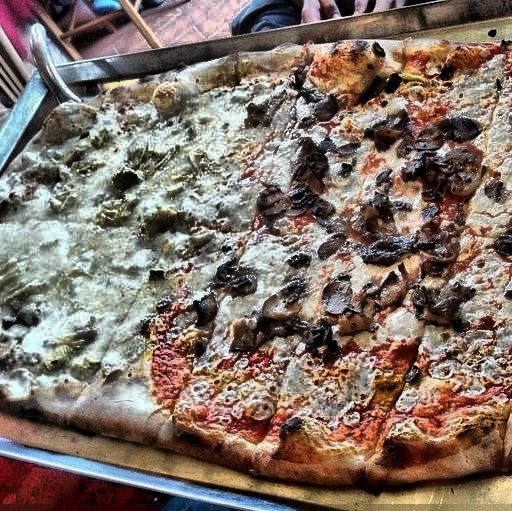pizza: (21, 68, 512, 458)
